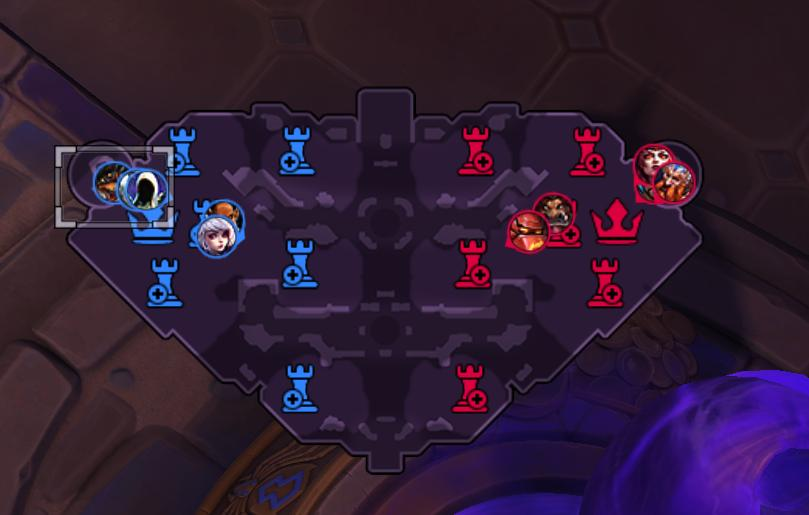blue player: (120, 167, 168, 213), (195, 214, 239, 257), (91, 161, 130, 204)
blue tower: (280, 236, 319, 289), (277, 124, 316, 176), (145, 256, 183, 308), (165, 125, 201, 178), (280, 362, 318, 412)
red nexus: (589, 196, 644, 244)
red player: (632, 144, 673, 195), (651, 160, 696, 205), (505, 209, 550, 253), (533, 192, 575, 233)
red tower: (585, 257, 624, 308), (453, 237, 491, 289), (568, 125, 606, 177), (456, 124, 494, 176), (450, 363, 489, 413)
